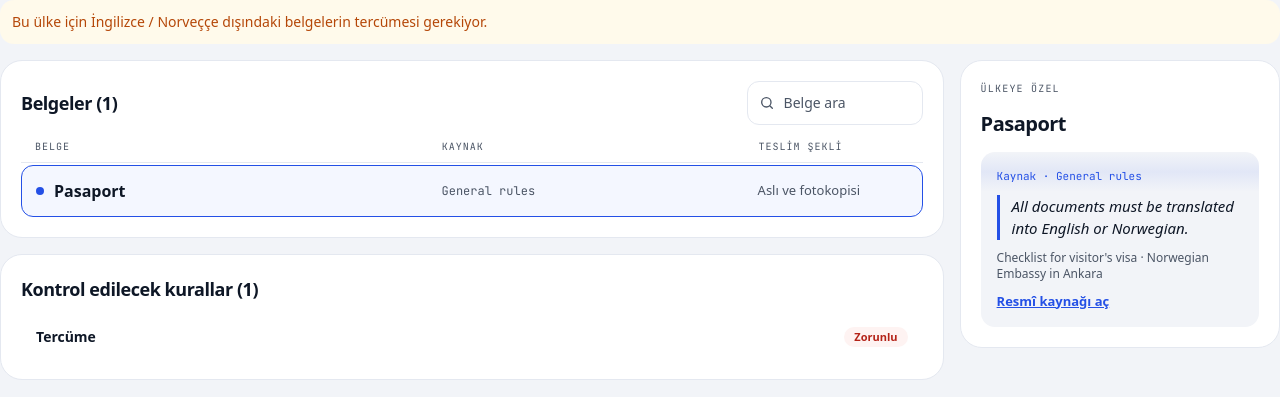
Test: ChecklistView › shows the source of a rule when it is selected
The image size is (1280, 397).
Click the button "Tercüme Zorunlu" at (66, 336), box [21,315,923,359]
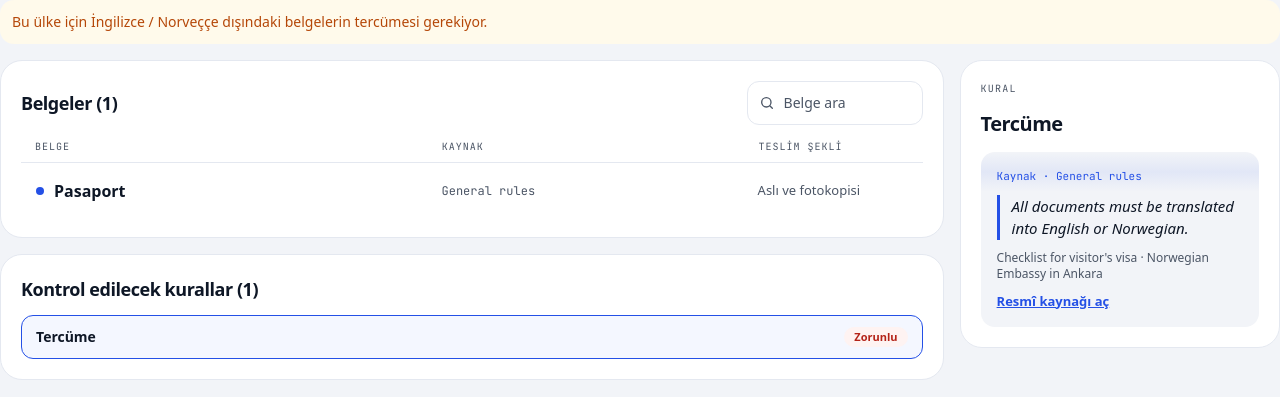
Check: the text "Kural" is shown, box [981,82,1017,95]
Check: the heading "Tercüme" is shown, box [981,110,1063,137]
